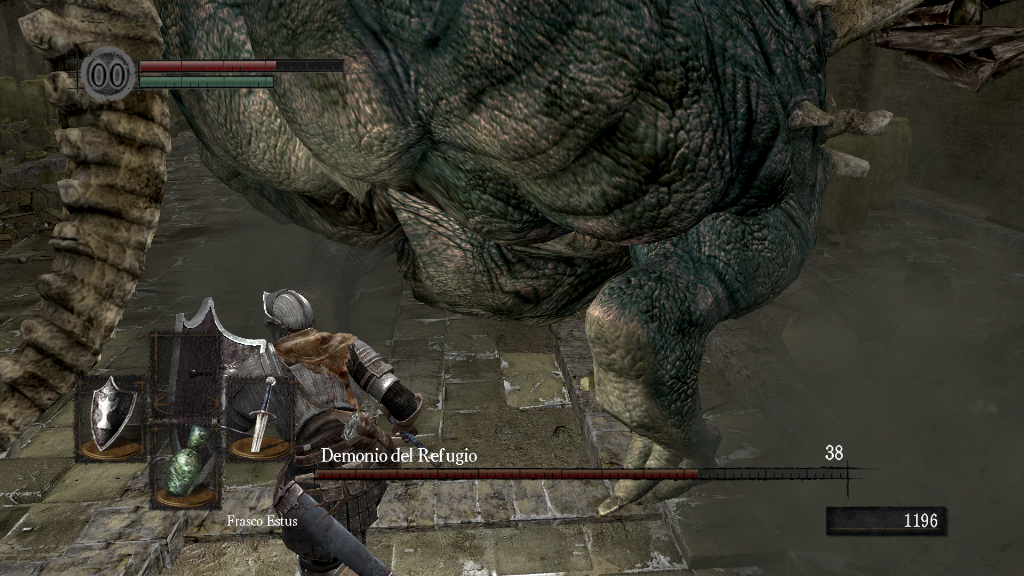asylumDemon: (2, 3, 1023, 518)
bossHP: (314, 469, 847, 479)
health: (138, 58, 343, 71)
humanity: (80, 45, 136, 102)
player: (167, 285, 445, 576)
souls: (825, 506, 945, 536)
stamina: (138, 74, 274, 88)
